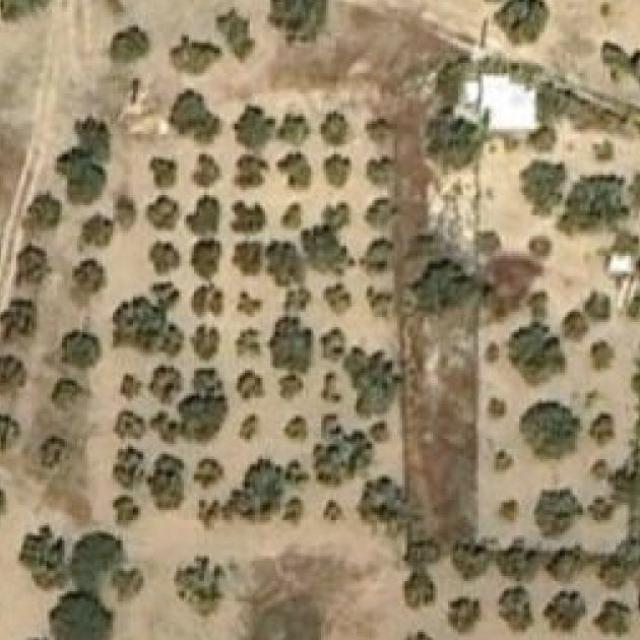Tree: (148, 368, 228, 442), (404, 258, 494, 317), (56, 114, 110, 203), (560, 172, 629, 234), (313, 414, 372, 484), (302, 200, 353, 276), (424, 112, 484, 172), (521, 400, 580, 459), (173, 554, 224, 618), (509, 325, 565, 381), (168, 86, 222, 144), (232, 459, 282, 520), (23, 530, 72, 592), (69, 530, 123, 586), (267, 0, 328, 48), (110, 296, 160, 352), (351, 352, 394, 417), (534, 488, 583, 542), (56, 591, 110, 640), (321, 112, 352, 196), (498, 0, 550, 46), (213, 7, 257, 61), (272, 317, 313, 373), (594, 538, 638, 590), (145, 452, 186, 506), (168, 36, 222, 76), (364, 476, 407, 526), (519, 163, 565, 208), (59, 327, 103, 373), (542, 591, 587, 635), (232, 107, 275, 150), (184, 193, 222, 237), (0, 300, 37, 345), (499, 586, 534, 632), (267, 241, 301, 286), (112, 447, 145, 491), (545, 546, 583, 584), (16, 246, 52, 286), (448, 596, 484, 635), (143, 195, 182, 231), (110, 25, 148, 61), (230, 200, 268, 236), (113, 566, 148, 604), (71, 256, 105, 295), (0, 355, 32, 396), (595, 599, 631, 635), (401, 571, 435, 609), (188, 324, 221, 363), (150, 366, 181, 406), (277, 152, 311, 188), (147, 241, 181, 276), (188, 152, 221, 188), (191, 284, 224, 320), (367, 195, 400, 231), (188, 241, 221, 276), (84, 210, 113, 249), (452, 544, 486, 577), (28, 195, 59, 231), (113, 411, 148, 442), (366, 157, 397, 192), (148, 157, 179, 191), (194, 457, 225, 491), (407, 537, 443, 566), (110, 495, 140, 528), (364, 241, 394, 274), (503, 549, 536, 579), (237, 157, 267, 188), (235, 241, 263, 274), (1, 0, 47, 20), (321, 327, 346, 363), (115, 192, 138, 231), (590, 340, 616, 374), (587, 413, 613, 447), (526, 122, 557, 150), (368, 111, 394, 144), (285, 283, 314, 312), (39, 437, 64, 470), (54, 378, 79, 411), (0, 411, 20, 451), (277, 117, 308, 142), (235, 327, 260, 358), (237, 371, 262, 401), (587, 294, 613, 322), (590, 497, 616, 525), (237, 288, 262, 317), (562, 312, 587, 340), (496, 495, 521, 523), (279, 202, 303, 231), (282, 416, 308, 442), (285, 464, 311, 490), (237, 413, 260, 442), (328, 286, 352, 312), (485, 395, 506, 424), (321, 373, 341, 403), (282, 500, 306, 525), (323, 498, 346, 523), (120, 373, 140, 401), (279, 373, 303, 396), (491, 449, 514, 472), (155, 286, 179, 307), (531, 236, 552, 259), (372, 422, 392, 445), (369, 295, 392, 315), (592, 459, 613, 478), (0, 476, 6, 536)
